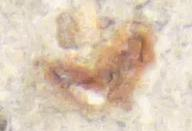Corrosion: (31, 5, 158, 117)
